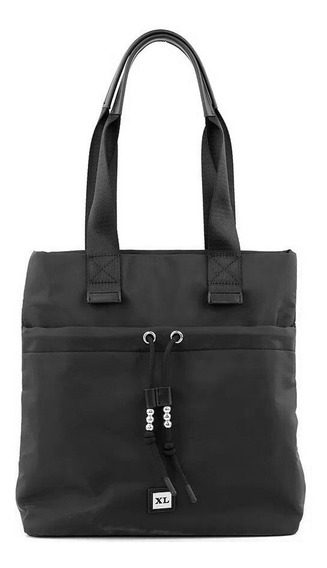cartera: (14, 30, 307, 539)
